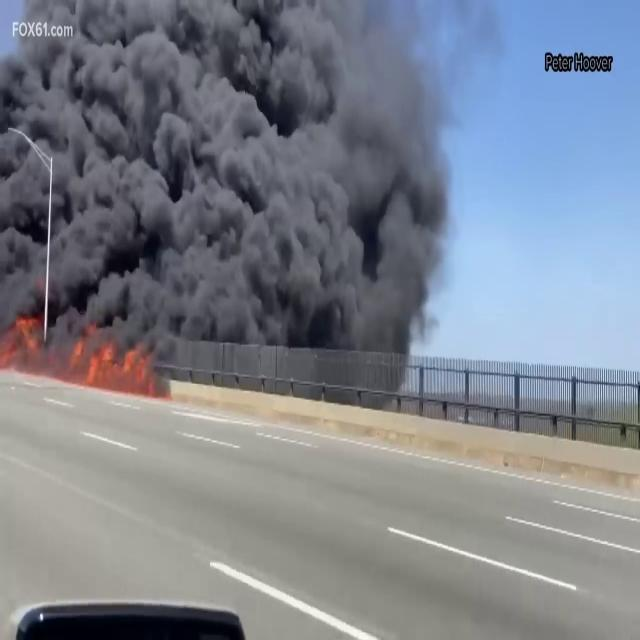Smoke: (0, 0, 459, 374)
